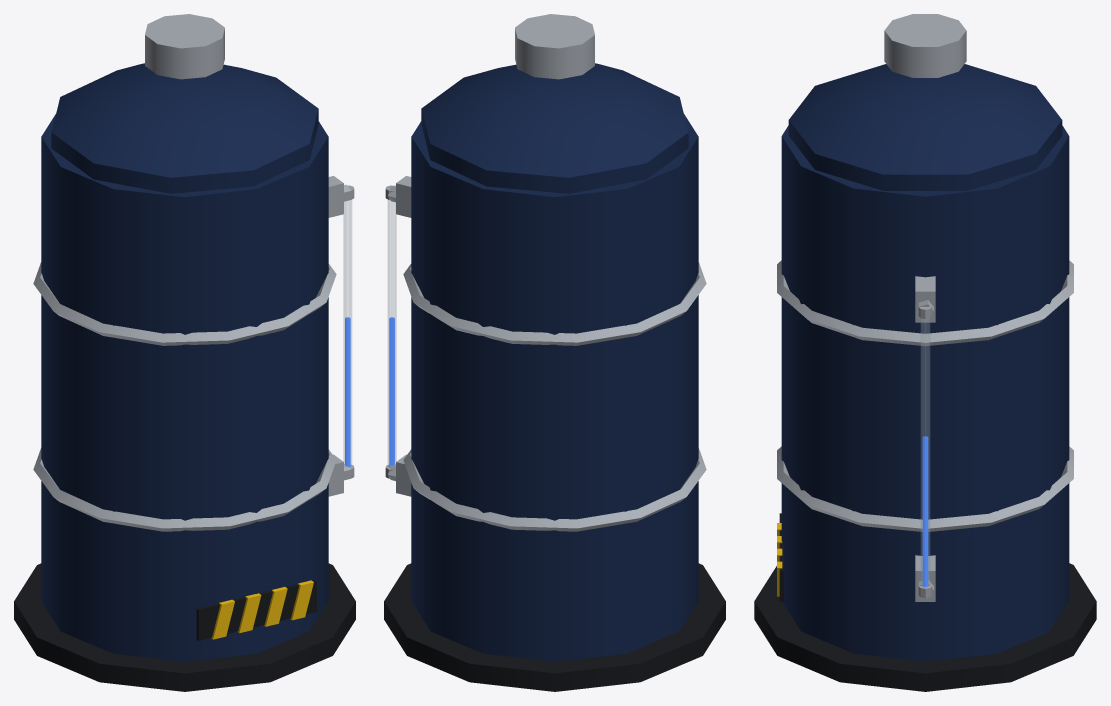
The model's file is tank_buffer_tank_with_level_tube.glb.
3 renders of one model, left to right at view 1: azimuth 30°, elevation 25°; view 2: azimuth 150°, elevation 25°; view 3: azimuth 270°, elevation 25°, orthographic.
Visible parts, largest first — view 1: tank_buffer_tank_with_level_tube; view 2: tank_buffer_tank_with_level_tube; view 3: tank_buffer_tank_with_level_tube.
Boxes of the visible parts, left/top/right/bottom form: tank_buffer_tank_with_level_tube: left=14, top=14, right=355, bottom=691; tank_buffer_tank_with_level_tube: left=384, top=14, right=725, bottom=691; tank_buffer_tank_with_level_tube: left=754, top=14, right=1096, bottom=691.
Size of the model in its own units: 1.07 by 1.9 by 1.
